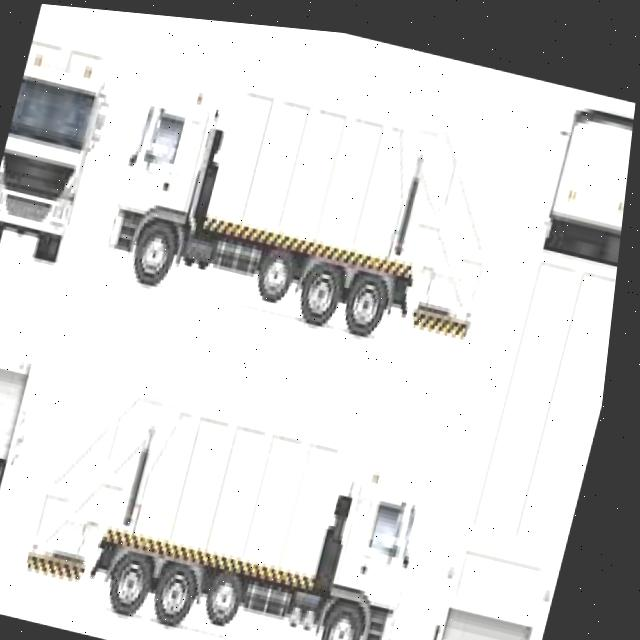truck: (97, 50, 527, 355), (23, 366, 454, 640), (428, 77, 637, 640), (0, 22, 115, 268), (0, 338, 49, 587)
